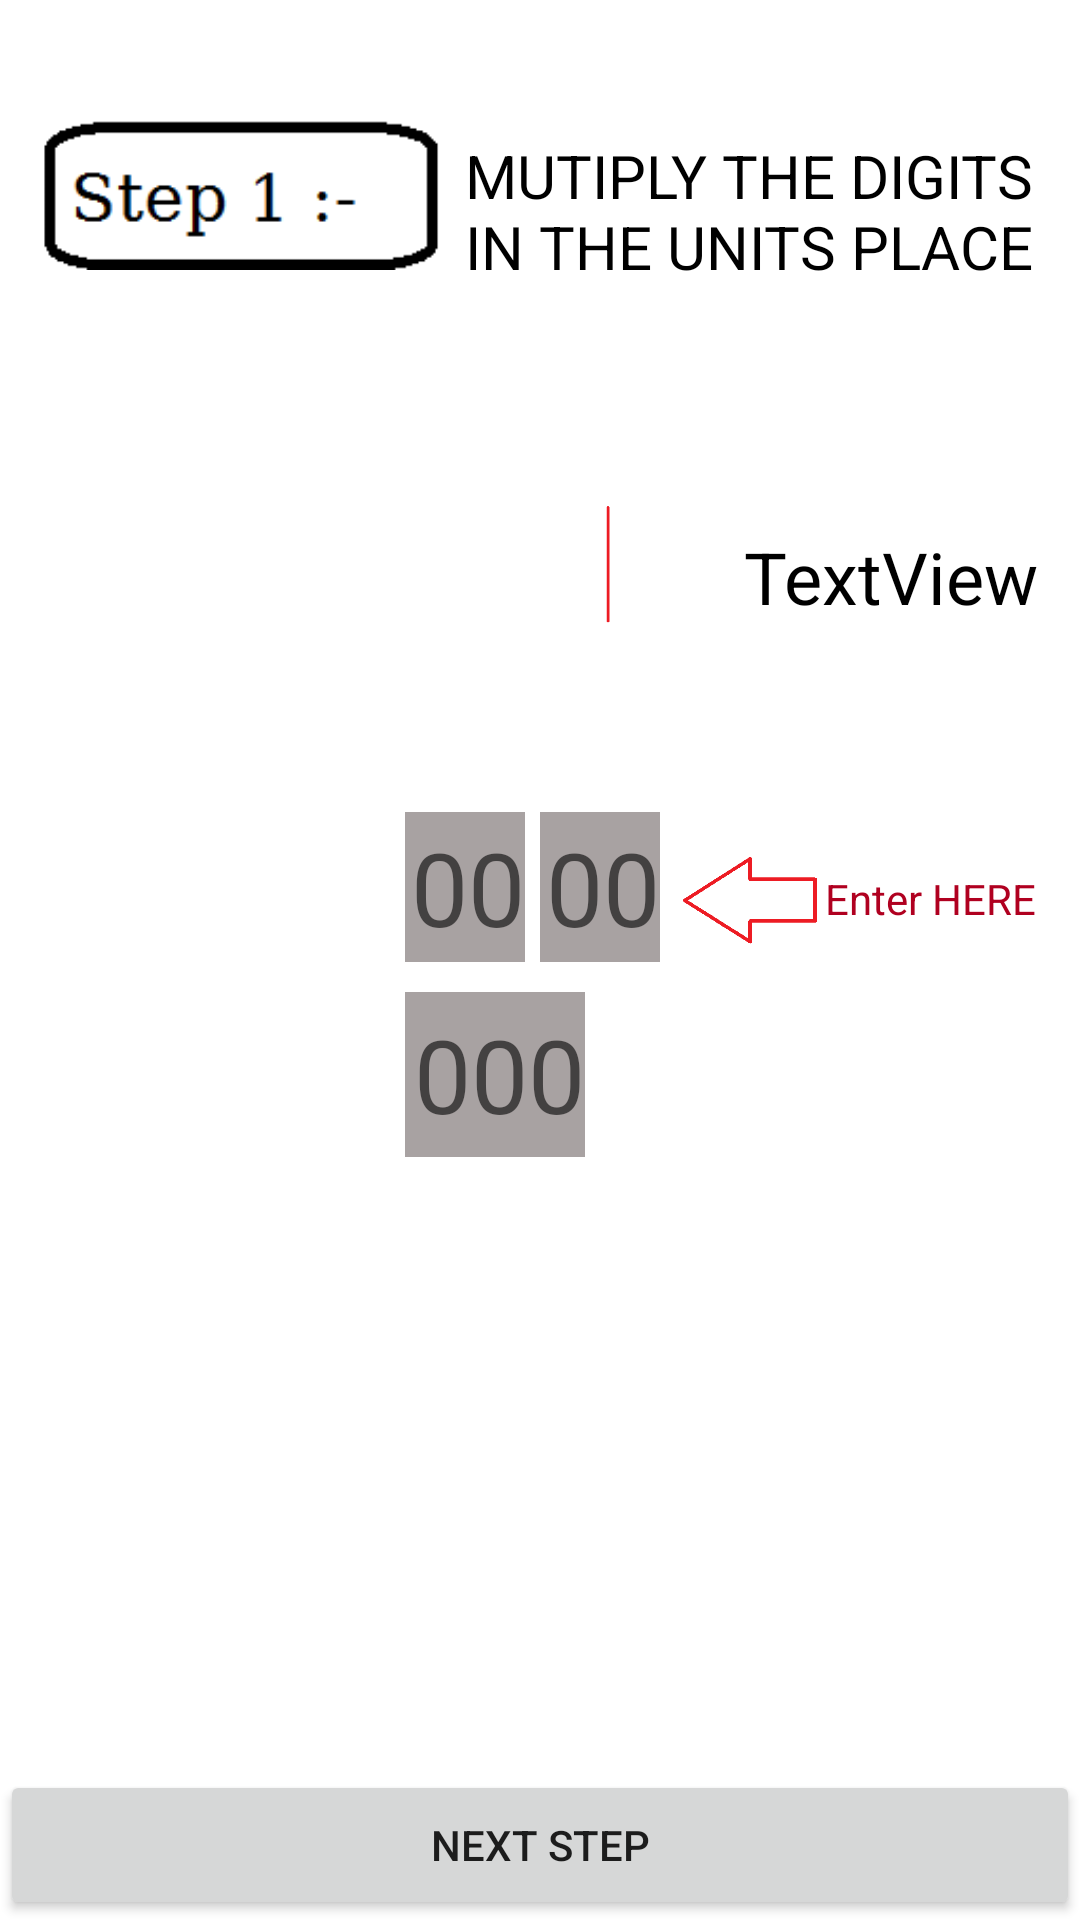

Icons on this 1080px×1920px Android screen, each with the point to tap as (x,y):
left arrow: (750,900)
